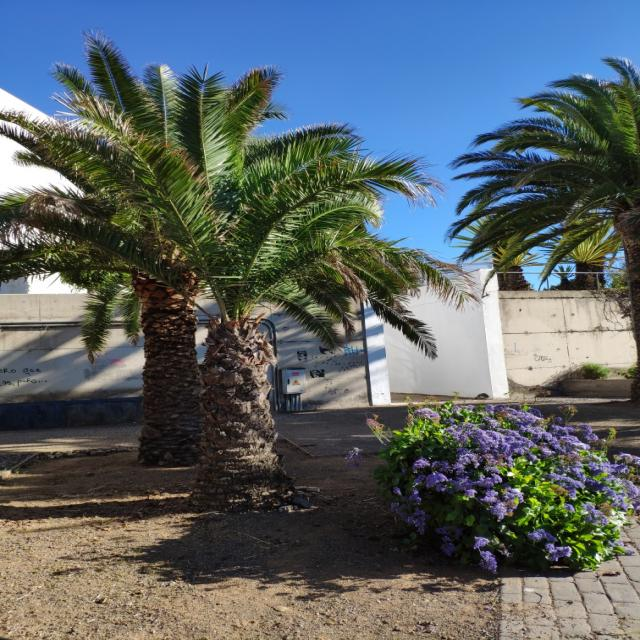Palm-Trees: (0, 36, 350, 466), (53, 158, 422, 510)
